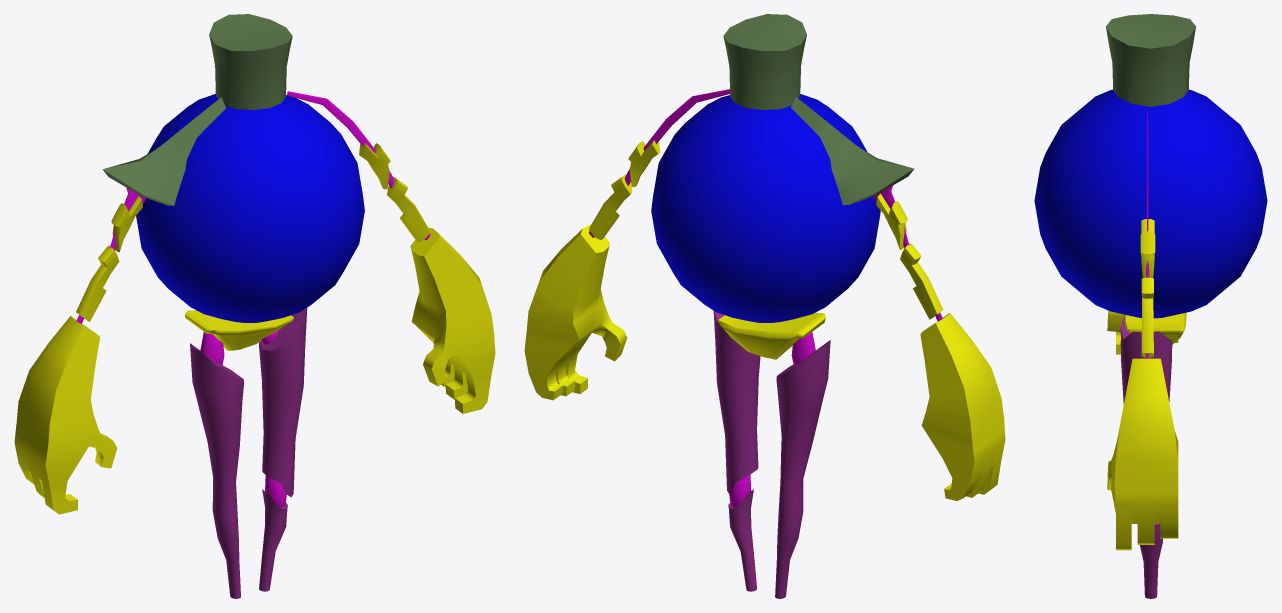
3 renders of one model, left to right at view 1: azimuth 30°, elevation 25°; view 2: azimuth 150°, elevation 25°; view 3: azimuth 270°, elevation 25°, orthographic.
Visible parts, largest first — view 1: Sfera, polySurface92, pCylinder12, pCylinder15, pCylinder13, pPlane2, polySurface95, pCube2, pCube1, pCylinder14, pCylinder11; view 2: Sfera, polySurface92, pCylinder12, pCylinder15, pCylinder13, pPlane2, pCube2, polySurface95, pCube1, pCylinder14, pCylinder11; view 3: Sfera, polySurface92, pCylinder15, pCylinder13, pCylinder14, polySurface95, pCube2, pCube1.
Boxes of the visible parts, box(x1,y1,x2,y2) form: Sfera: box(136, 94, 364, 322); polySurface92: box(14, 227, 495, 514); pCylinder12: box(190, 343, 243, 598); pCylinder15: box(209, 14, 292, 109); pCylinder13: box(259, 308, 307, 497); pPlane2: box(102, 97, 225, 205); polySurface95: box(76, 177, 430, 321); pCube2: box(185, 310, 293, 350); pCube1: box(111, 143, 390, 252); pCylinder14: box(259, 489, 287, 591); pCylinder11: box(287, 91, 430, 240); Sfera: box(651, 94, 880, 322); polySurface92: box(524, 224, 1005, 500); pCylinder12: box(775, 340, 830, 598); pCylinder15: box(723, 14, 806, 109); pCylinder13: box(713, 311, 760, 493); pPlane2: box(791, 96, 914, 205); pCube2: box(717, 312, 825, 359); polySurface95: box(589, 174, 943, 319); pCube1: box(628, 140, 907, 249); pCylinder14: box(728, 489, 756, 591); pCylinder11: box(589, 89, 729, 237); Sfera: box(1034, 89, 1267, 318); polySurface92: box(1107, 310, 1178, 550); pCylinder15: box(1106, 14, 1195, 106); pCylinder13: box(1120, 331, 1172, 404); pCylinder14: box(1139, 524, 1162, 598); polySurface95: box(1141, 277, 1153, 357); pCube2: box(1124, 312, 1186, 344); pCube1: box(1140, 219, 1155, 278).
Size of the model in its own units: 99.16 by 118 by 44.29.
